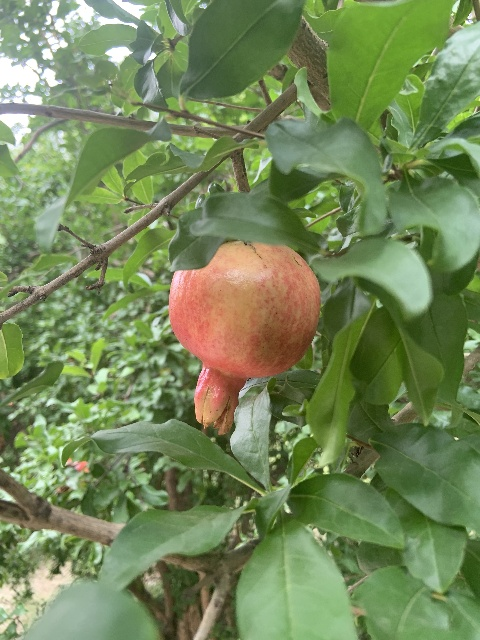ripe: (168, 240, 320, 434)
